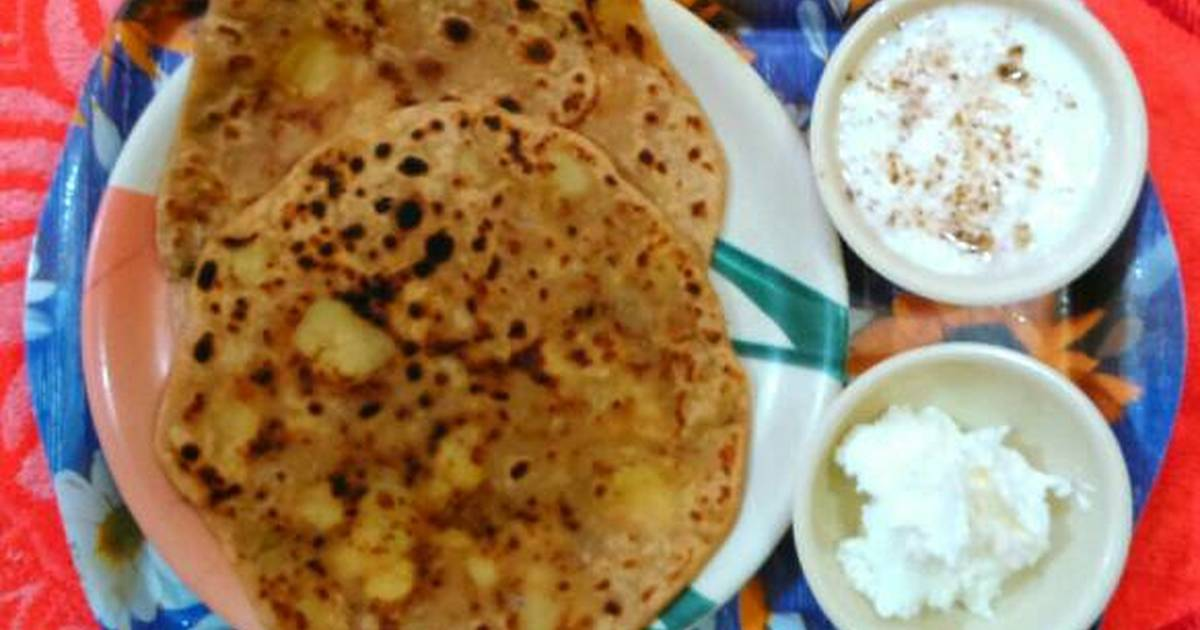aloo_paratha: (156, 5, 758, 630)
